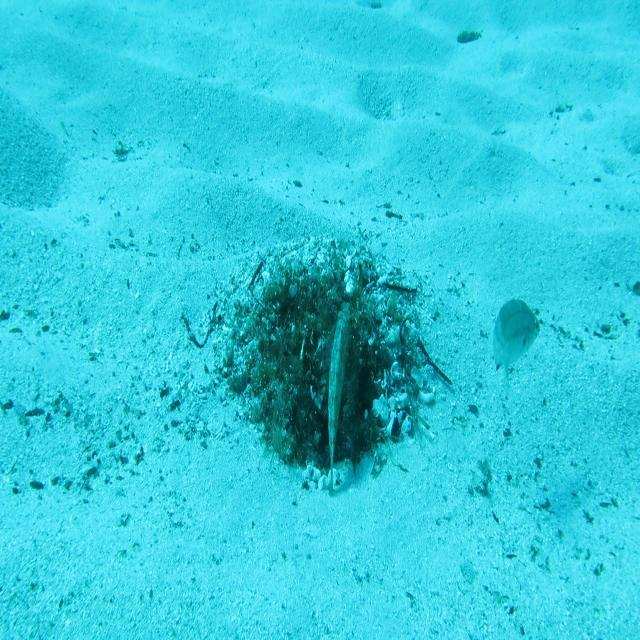LF: (318, 298, 361, 498)
core_nest: (293, 290, 346, 324)
female: (492, 296, 541, 402)
nest: (212, 230, 447, 503)
vegetation: (456, 30, 484, 46)
